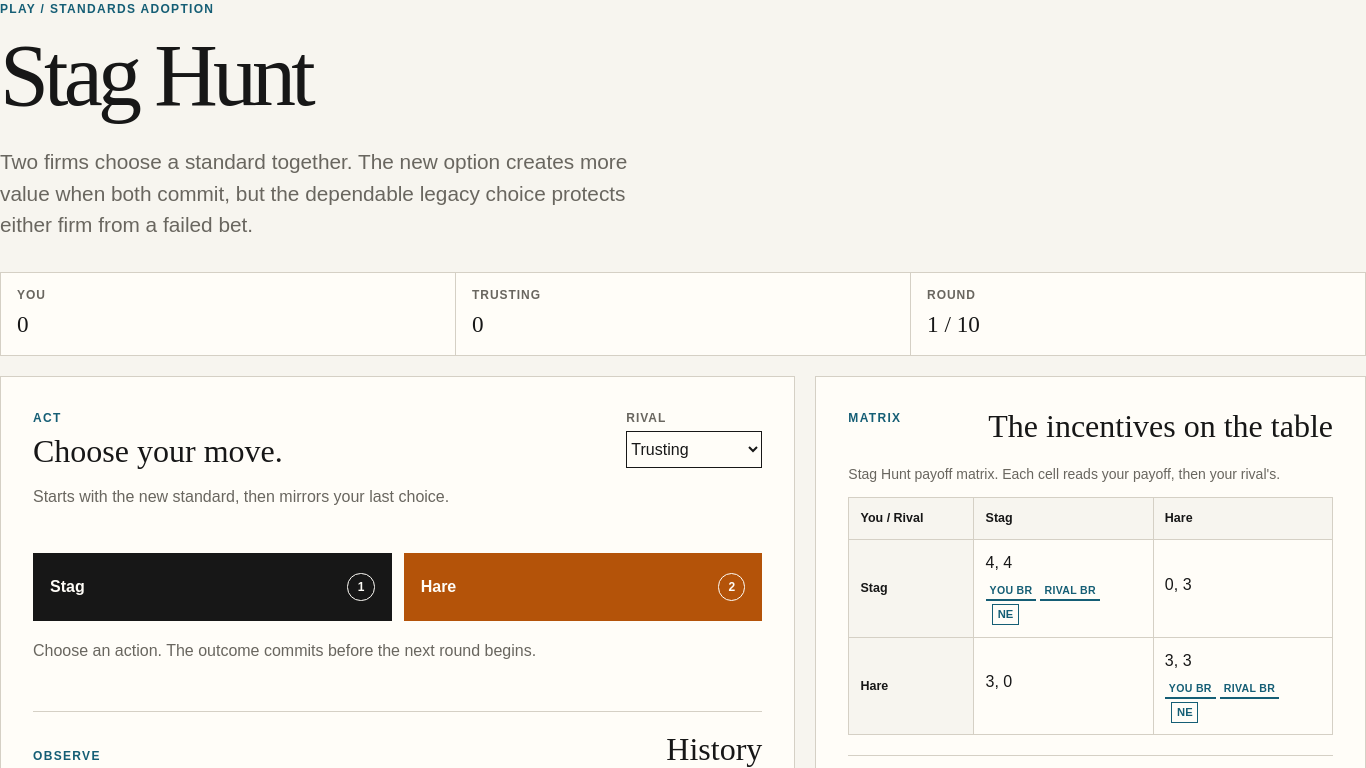
Scenario: one-shot play arenas › surfaces Stag Hunt selection analysis from the engine
Click the button with aria-label "Stag (key 1)".
click(67, 586)  # box [33, 553, 392, 621]
Wait 150 ms
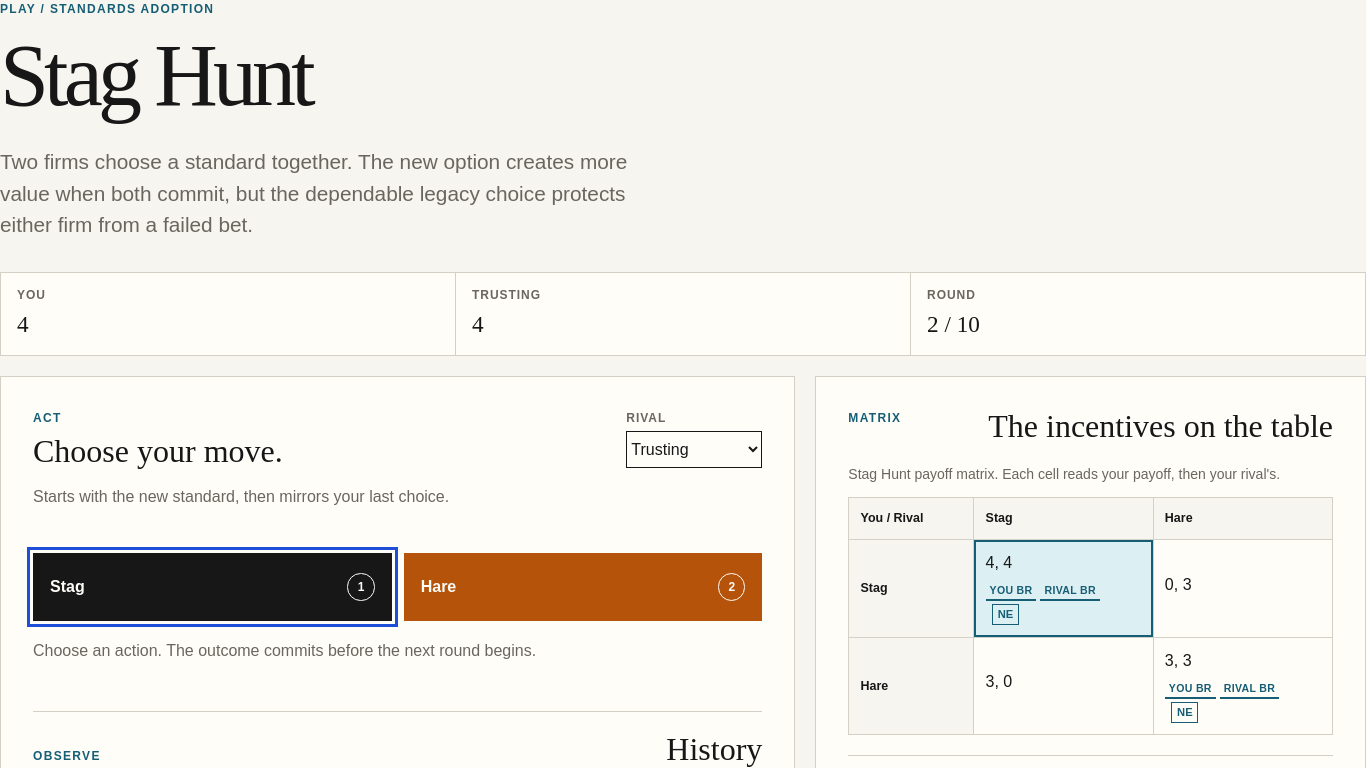
Click the button with aria-label "Stag (key 1)".
click(67, 586)  # box [33, 553, 392, 621]
Wait 150 ms
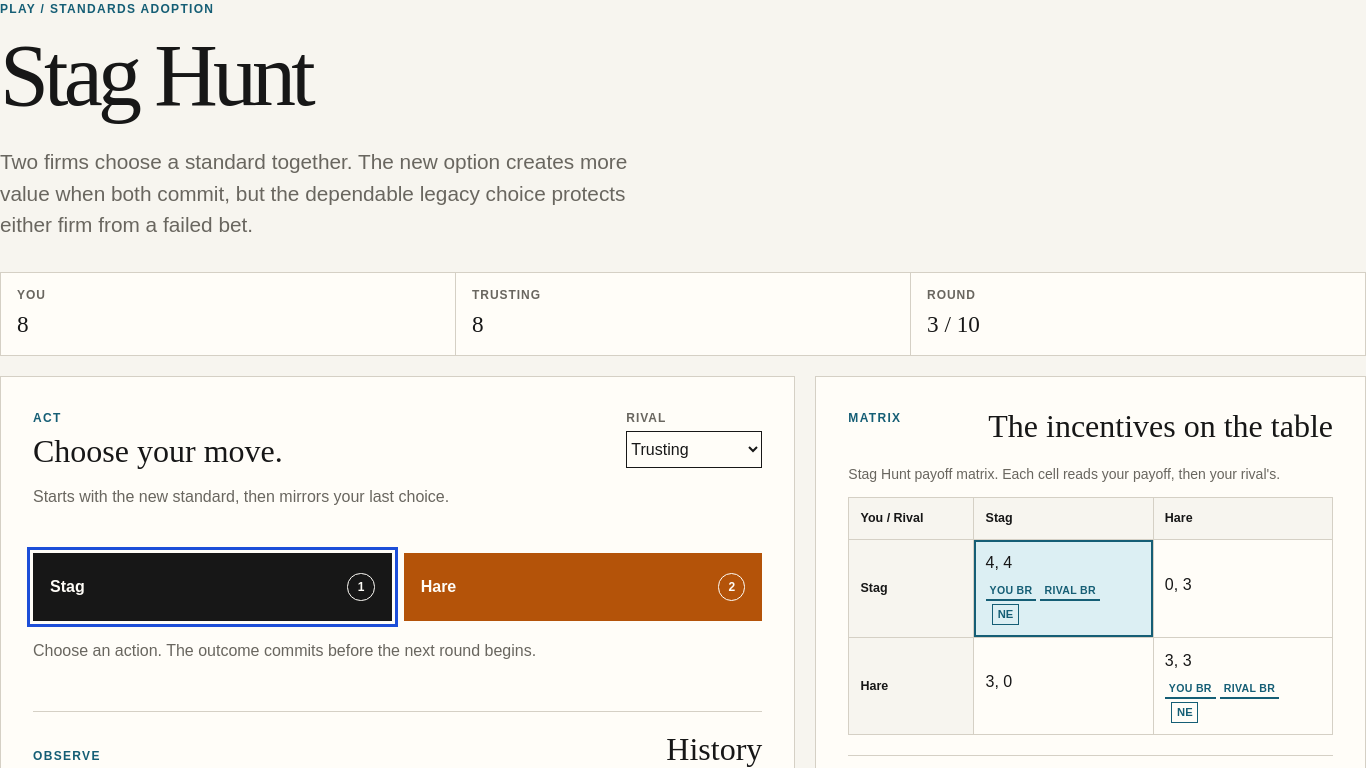
Click the button with aria-label "Stag (key 1)".
click(67, 586)  # box [33, 553, 392, 621]
Wait 150 ms
(page scrolled)
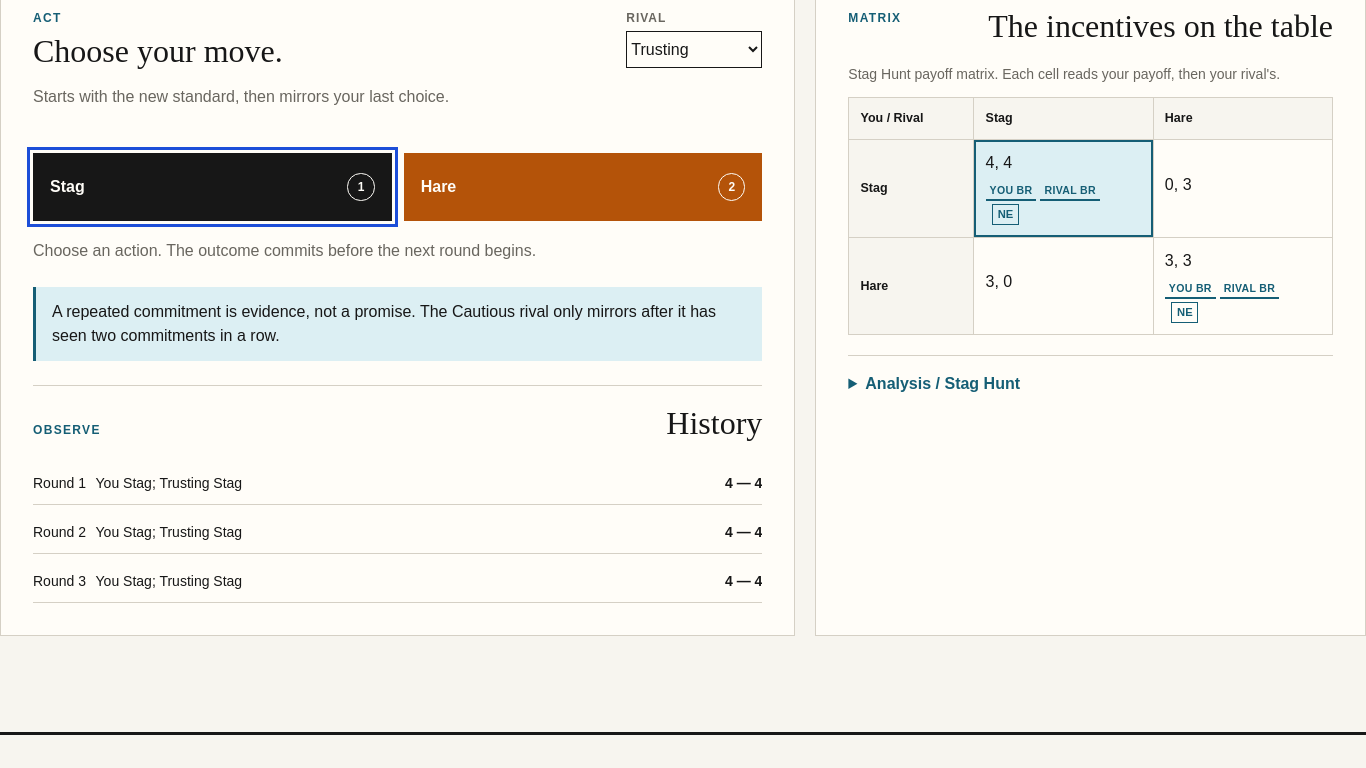
Click the heading "Analysis / Stag Hunt".
click(943, 384)  # box [865, 375, 1020, 392]
(page scrolled)
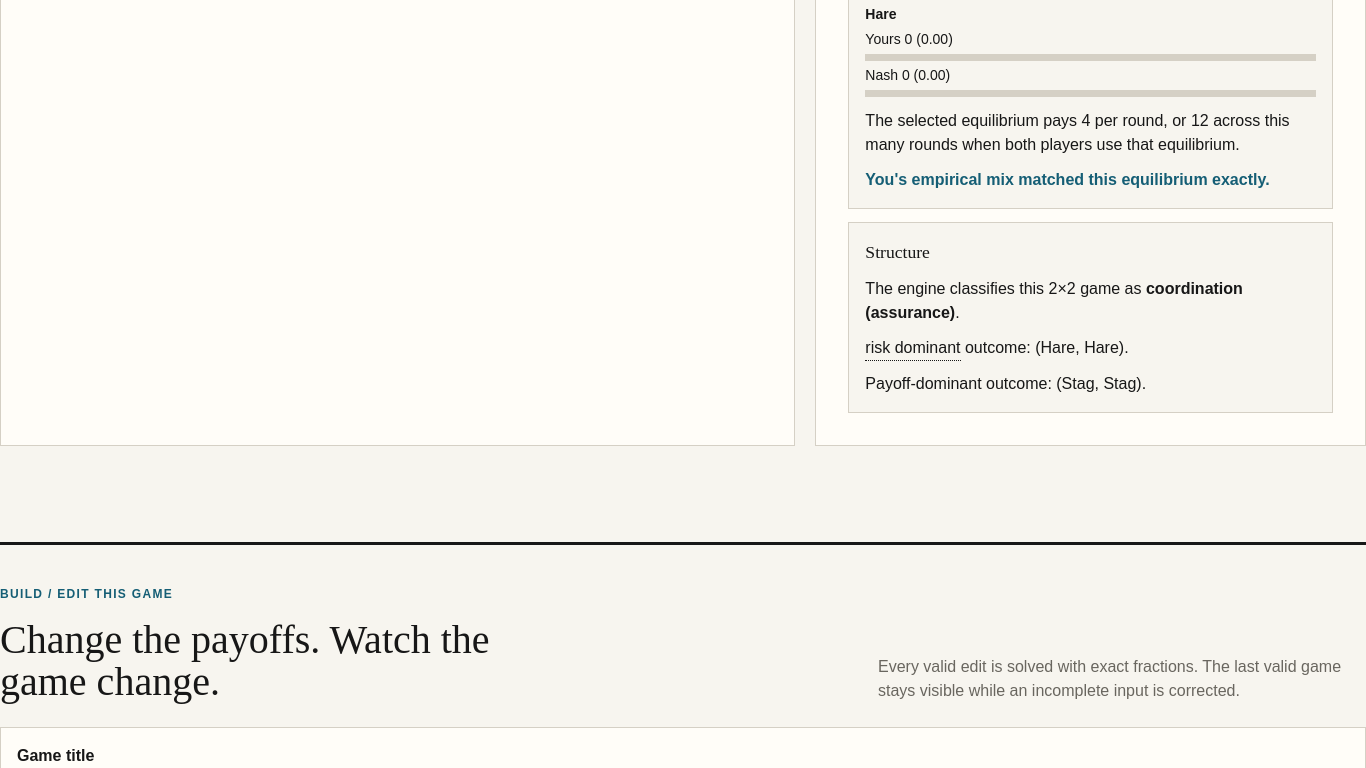
Expected: the element "risk dominant" reads "risk dominant outcome: (Hare, Hare).", [865, 336, 1129, 361]
Expected: the text "Payoff-dominant outcome: (Stag, Stag)." is shown, [865, 375, 1146, 392]
